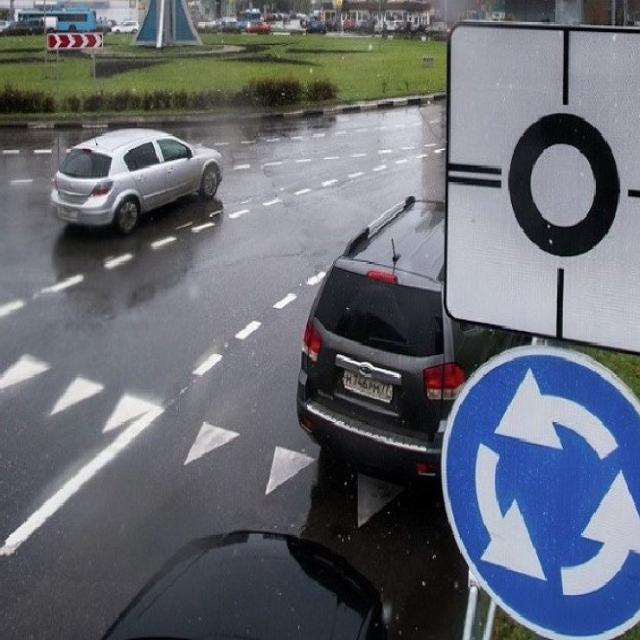roundabout: (439, 339, 640, 640)
